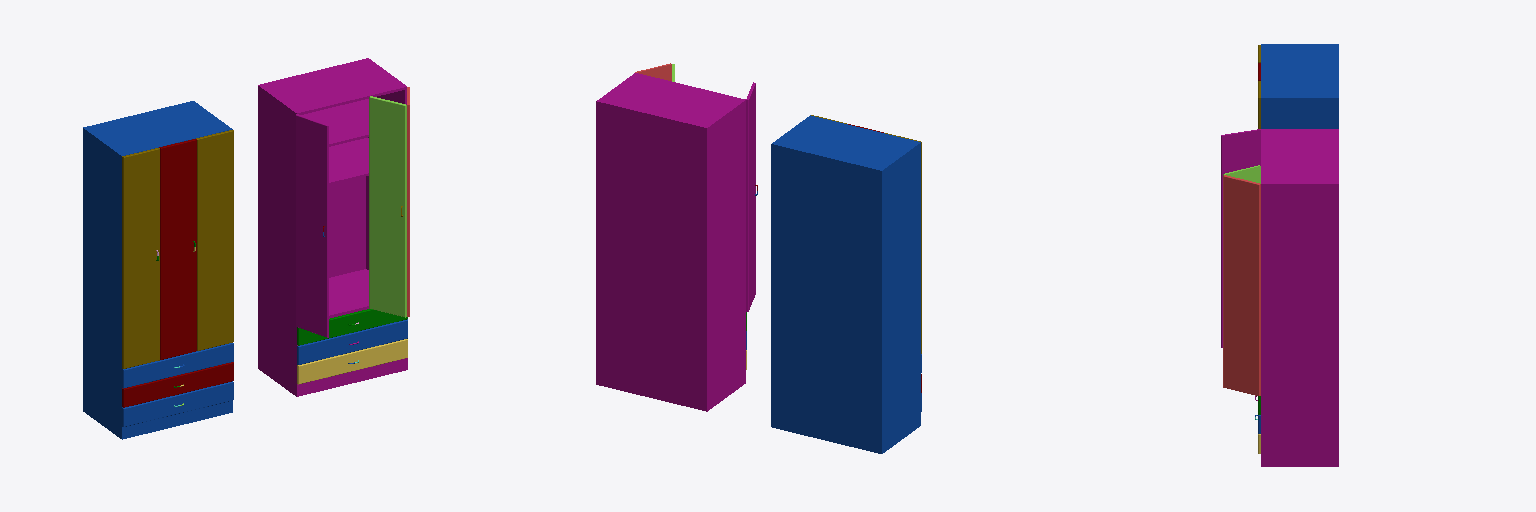
File: cupboard.obj
The picture shows the model from 3 angles: view 1: azimuth 30°, elevation 25°; view 2: azimuth 150°, elevation 25°; view 3: azimuth 270°, elevation 25°; orthographic projection.
Parts seen in each view (by area): view 1: Orman_120_2_001, Orman_120_1_001, Group_249_002, Group_210_001, Group_251_001, Group_249_001, Group_210_002, Group_248_002, Group_248_003, Group_248_001, Group_248_005, Group_248_004 (+2 smaller); view 2: Orman_120_2_001, Orman_120_1_001, Group_210_002; view 3: Orman_120_2_001, Group_251_002, Orman_120_1_001, Group_210_002.
Boxes of the visible parts, box(x1,y1,x2,y2) form: Orman_120_2_001: box(258, 58, 407, 396); Orman_120_1_001: box(83, 101, 232, 439); Group_249_002: box(369, 96, 406, 317); Group_210_001: box(122, 148, 159, 368); Group_251_001: box(196, 130, 233, 350); Group_249_001: box(159, 139, 196, 359); Group_210_002: box(296, 114, 328, 337); Group_248_002: box(122, 362, 233, 407); Group_248_003: box(122, 343, 233, 388); Group_248_001: box(122, 381, 233, 426); Group_248_005: box(297, 319, 407, 364); Group_248_004: box(297, 339, 407, 384); Orman_120_2_001: box(596, 73, 745, 411); Orman_120_1_001: box(771, 115, 920, 453); Group_210_002: box(746, 82, 755, 311); Orman_120_2_001: box(1261, 129, 1338, 466); Group_251_002: box(1223, 175, 1260, 395); Orman_120_1_001: box(1261, 44, 1338, 128); Group_210_002: box(1221, 129, 1260, 347).
Size of the model in its own units: 2333 by 2200 by 832.